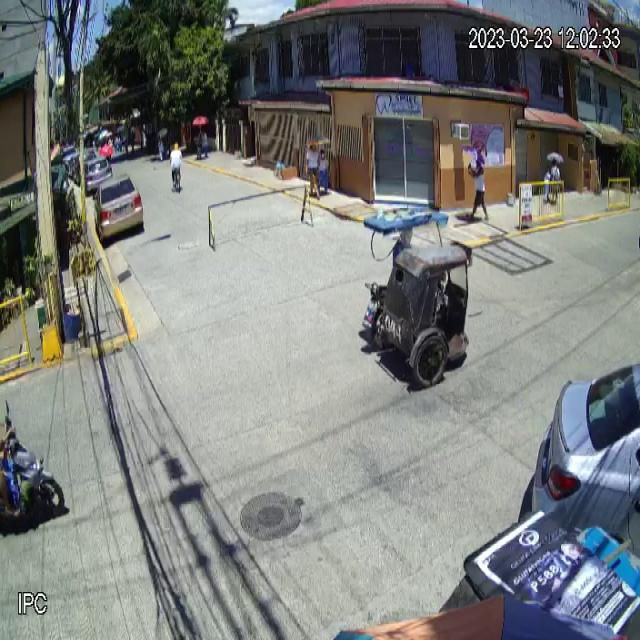Tricycle: (357, 208, 474, 384)
